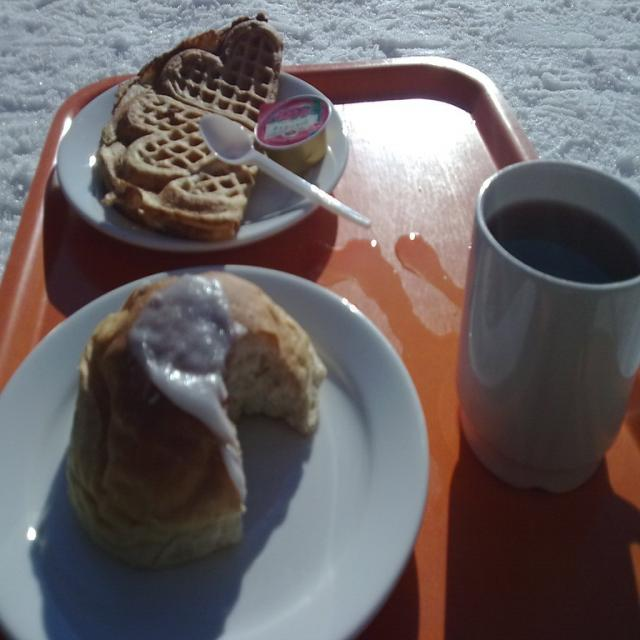Tea: (487, 194, 640, 284)
